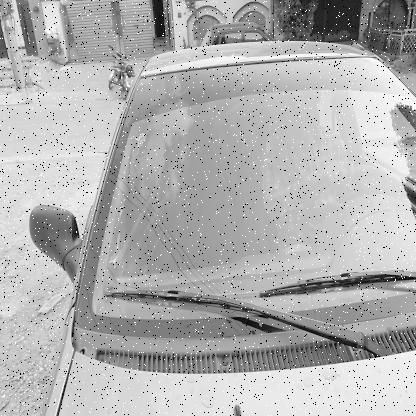no_seatbelt: (282, 90, 342, 204)
